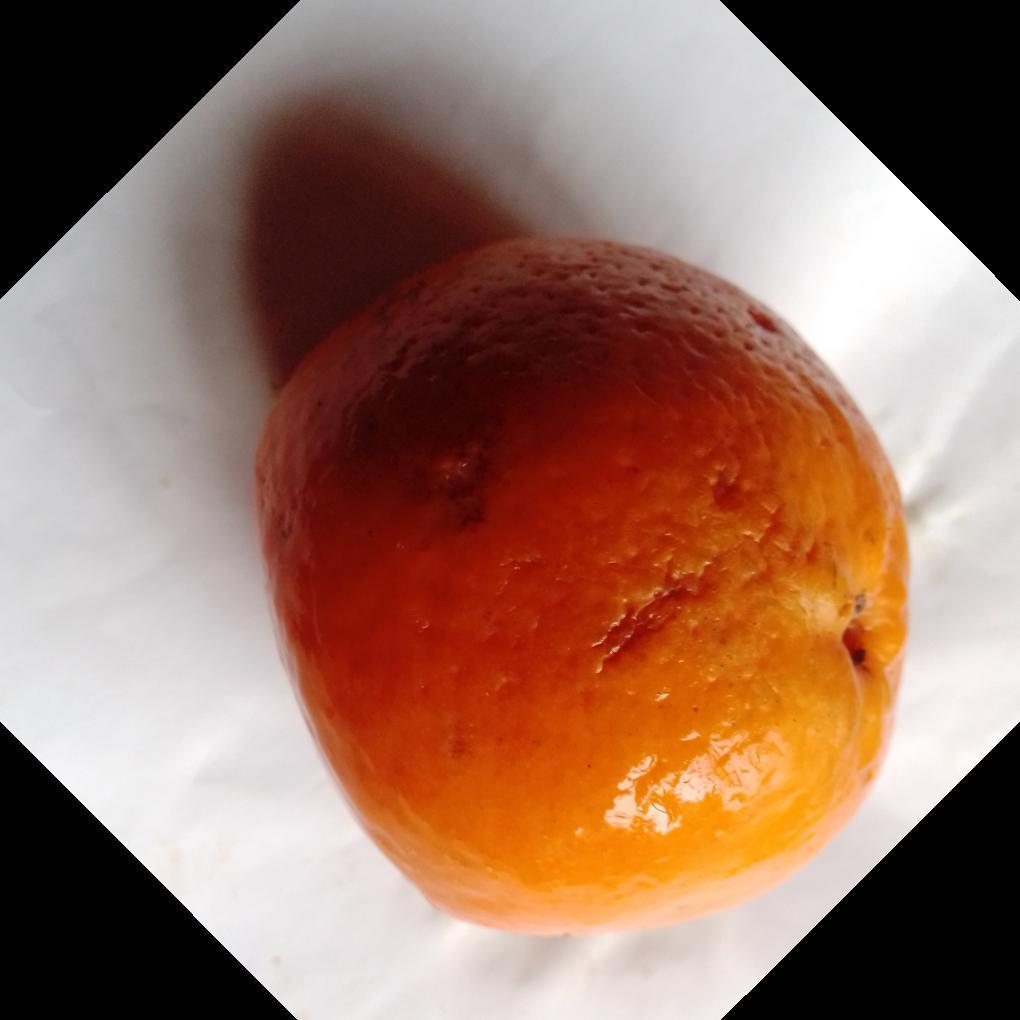FreshOrange: (249, 235, 913, 942)
